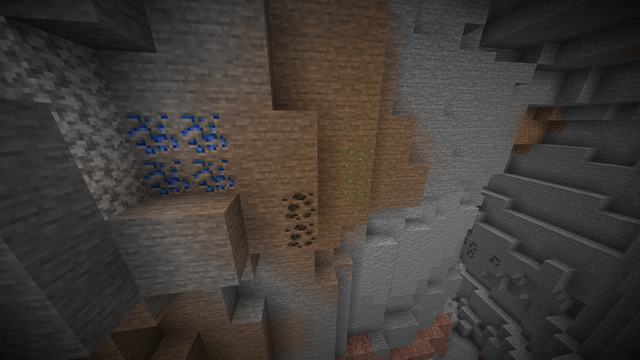coal: (280, 189, 319, 250), (463, 232, 500, 268)
lapis: (125, 112, 237, 196)
